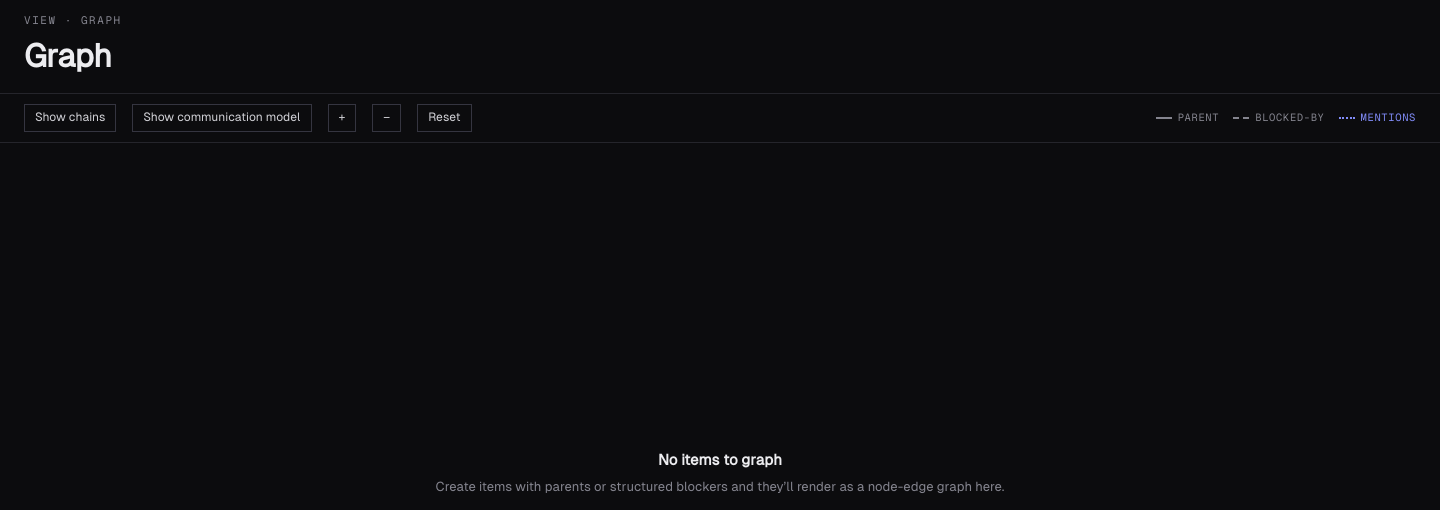
Scenario: GraphView — communication-model fourth layer › disables the Show chains toggle while comm mode is active so the two views stay mutually exclusive
Expected: the button with test id "graph-toggle-chains" is enabled, [24,104,116,132]
Click the button with test id "graph-toggle-comm" at (222, 118), box [132,104,312,132]
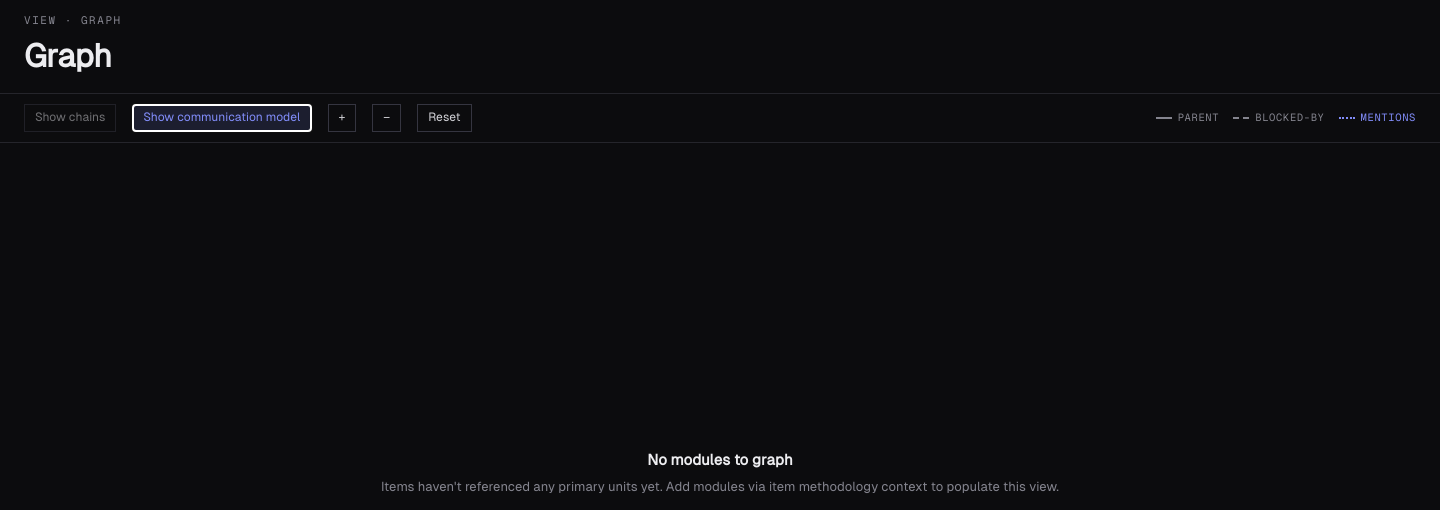
Expected: the button with test id "graph-toggle-chains" is disabled, [24,104,116,132]
